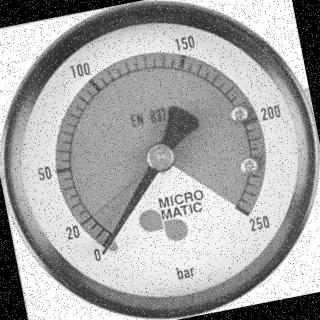gauge: (0, 0, 320, 320), (226, 192, 272, 238), (87, 227, 127, 265), (142, 138, 178, 176), (96, 242, 114, 259)
